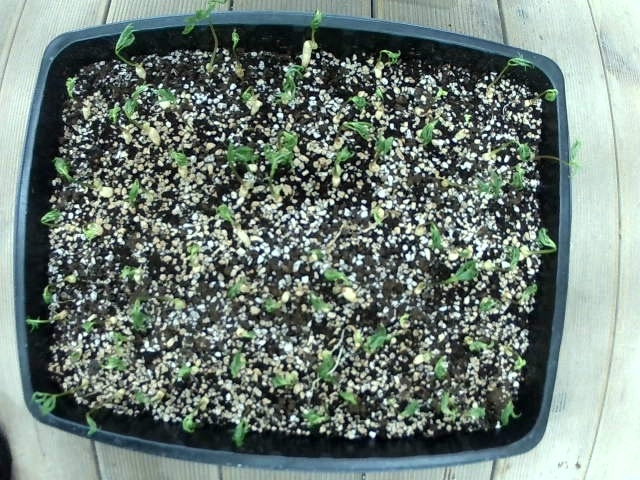생장기: (24, 382, 88, 427), (100, 16, 152, 69), (435, 246, 484, 296), (99, 315, 150, 363), (314, 263, 366, 310), (455, 293, 510, 336), (503, 277, 552, 322), (285, 3, 336, 46), (352, 134, 405, 175), (278, 125, 333, 164), (482, 355, 546, 388), (479, 397, 533, 436), (220, 143, 267, 187), (548, 141, 591, 187), (414, 215, 459, 257), (38, 153, 79, 199), (214, 220, 258, 262), (31, 206, 71, 251), (479, 244, 522, 285), (449, 395, 492, 436), (519, 225, 563, 263), (258, 296, 297, 338), (523, 79, 568, 115), (179, 239, 219, 279), (182, 9, 225, 46), (163, 408, 206, 445), (215, 343, 251, 387), (491, 136, 537, 170), (226, 415, 264, 455), (423, 395, 464, 432), (363, 315, 399, 357), (413, 79, 454, 115), (127, 75, 155, 127), (35, 275, 73, 313), (22, 307, 67, 339), (292, 408, 327, 449), (275, 359, 312, 397), (494, 43, 539, 74), (403, 126, 442, 161), (131, 400, 172, 433), (372, 58, 412, 91), (235, 84, 270, 121), (292, 287, 327, 323), (163, 153, 203, 184), (338, 386, 371, 423), (120, 183, 158, 215), (218, 25, 249, 64), (155, 86, 195, 116), (472, 165, 503, 203), (99, 95, 129, 134), (422, 348, 452, 387), (58, 74, 91, 109), (503, 167, 538, 199), (279, 67, 312, 100), (220, 279, 252, 313), (256, 154, 287, 189), (79, 405, 114, 435), (76, 221, 112, 250), (112, 302, 159, 324), (330, 151, 363, 182), (92, 346, 119, 383), (326, 122, 363, 147), (168, 366, 199, 395), (307, 353, 335, 383), (350, 90, 383, 115), (464, 347, 491, 370), (115, 262, 140, 284), (388, 408, 408, 433)
